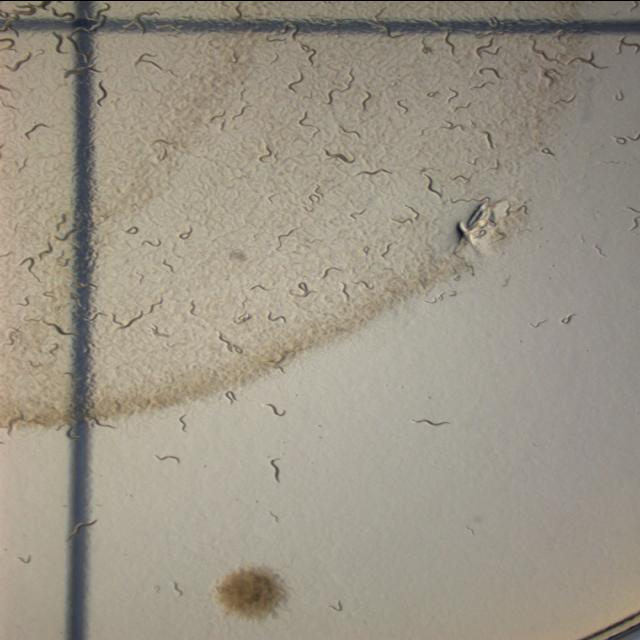filarid: (324, 69, 355, 104), (419, 166, 442, 199), (566, 51, 608, 69), (77, 435, 87, 501), (297, 110, 319, 136), (68, 520, 95, 538), (322, 148, 355, 162), (617, 35, 639, 53), (612, 131, 640, 144), (267, 455, 280, 482), (260, 402, 285, 416), (339, 124, 360, 138), (414, 418, 448, 426), (480, 130, 494, 149), (354, 168, 390, 175), (360, 90, 372, 110), (153, 454, 180, 462), (224, 390, 238, 402), (179, 412, 187, 431), (267, 311, 283, 320), (395, 100, 407, 112), (439, 120, 455, 129), (297, 281, 308, 294), (224, 341, 238, 350), (287, 80, 299, 90), (614, 88, 624, 100), (470, 155, 480, 164), (434, 292, 443, 300), (459, 176, 470, 182)
